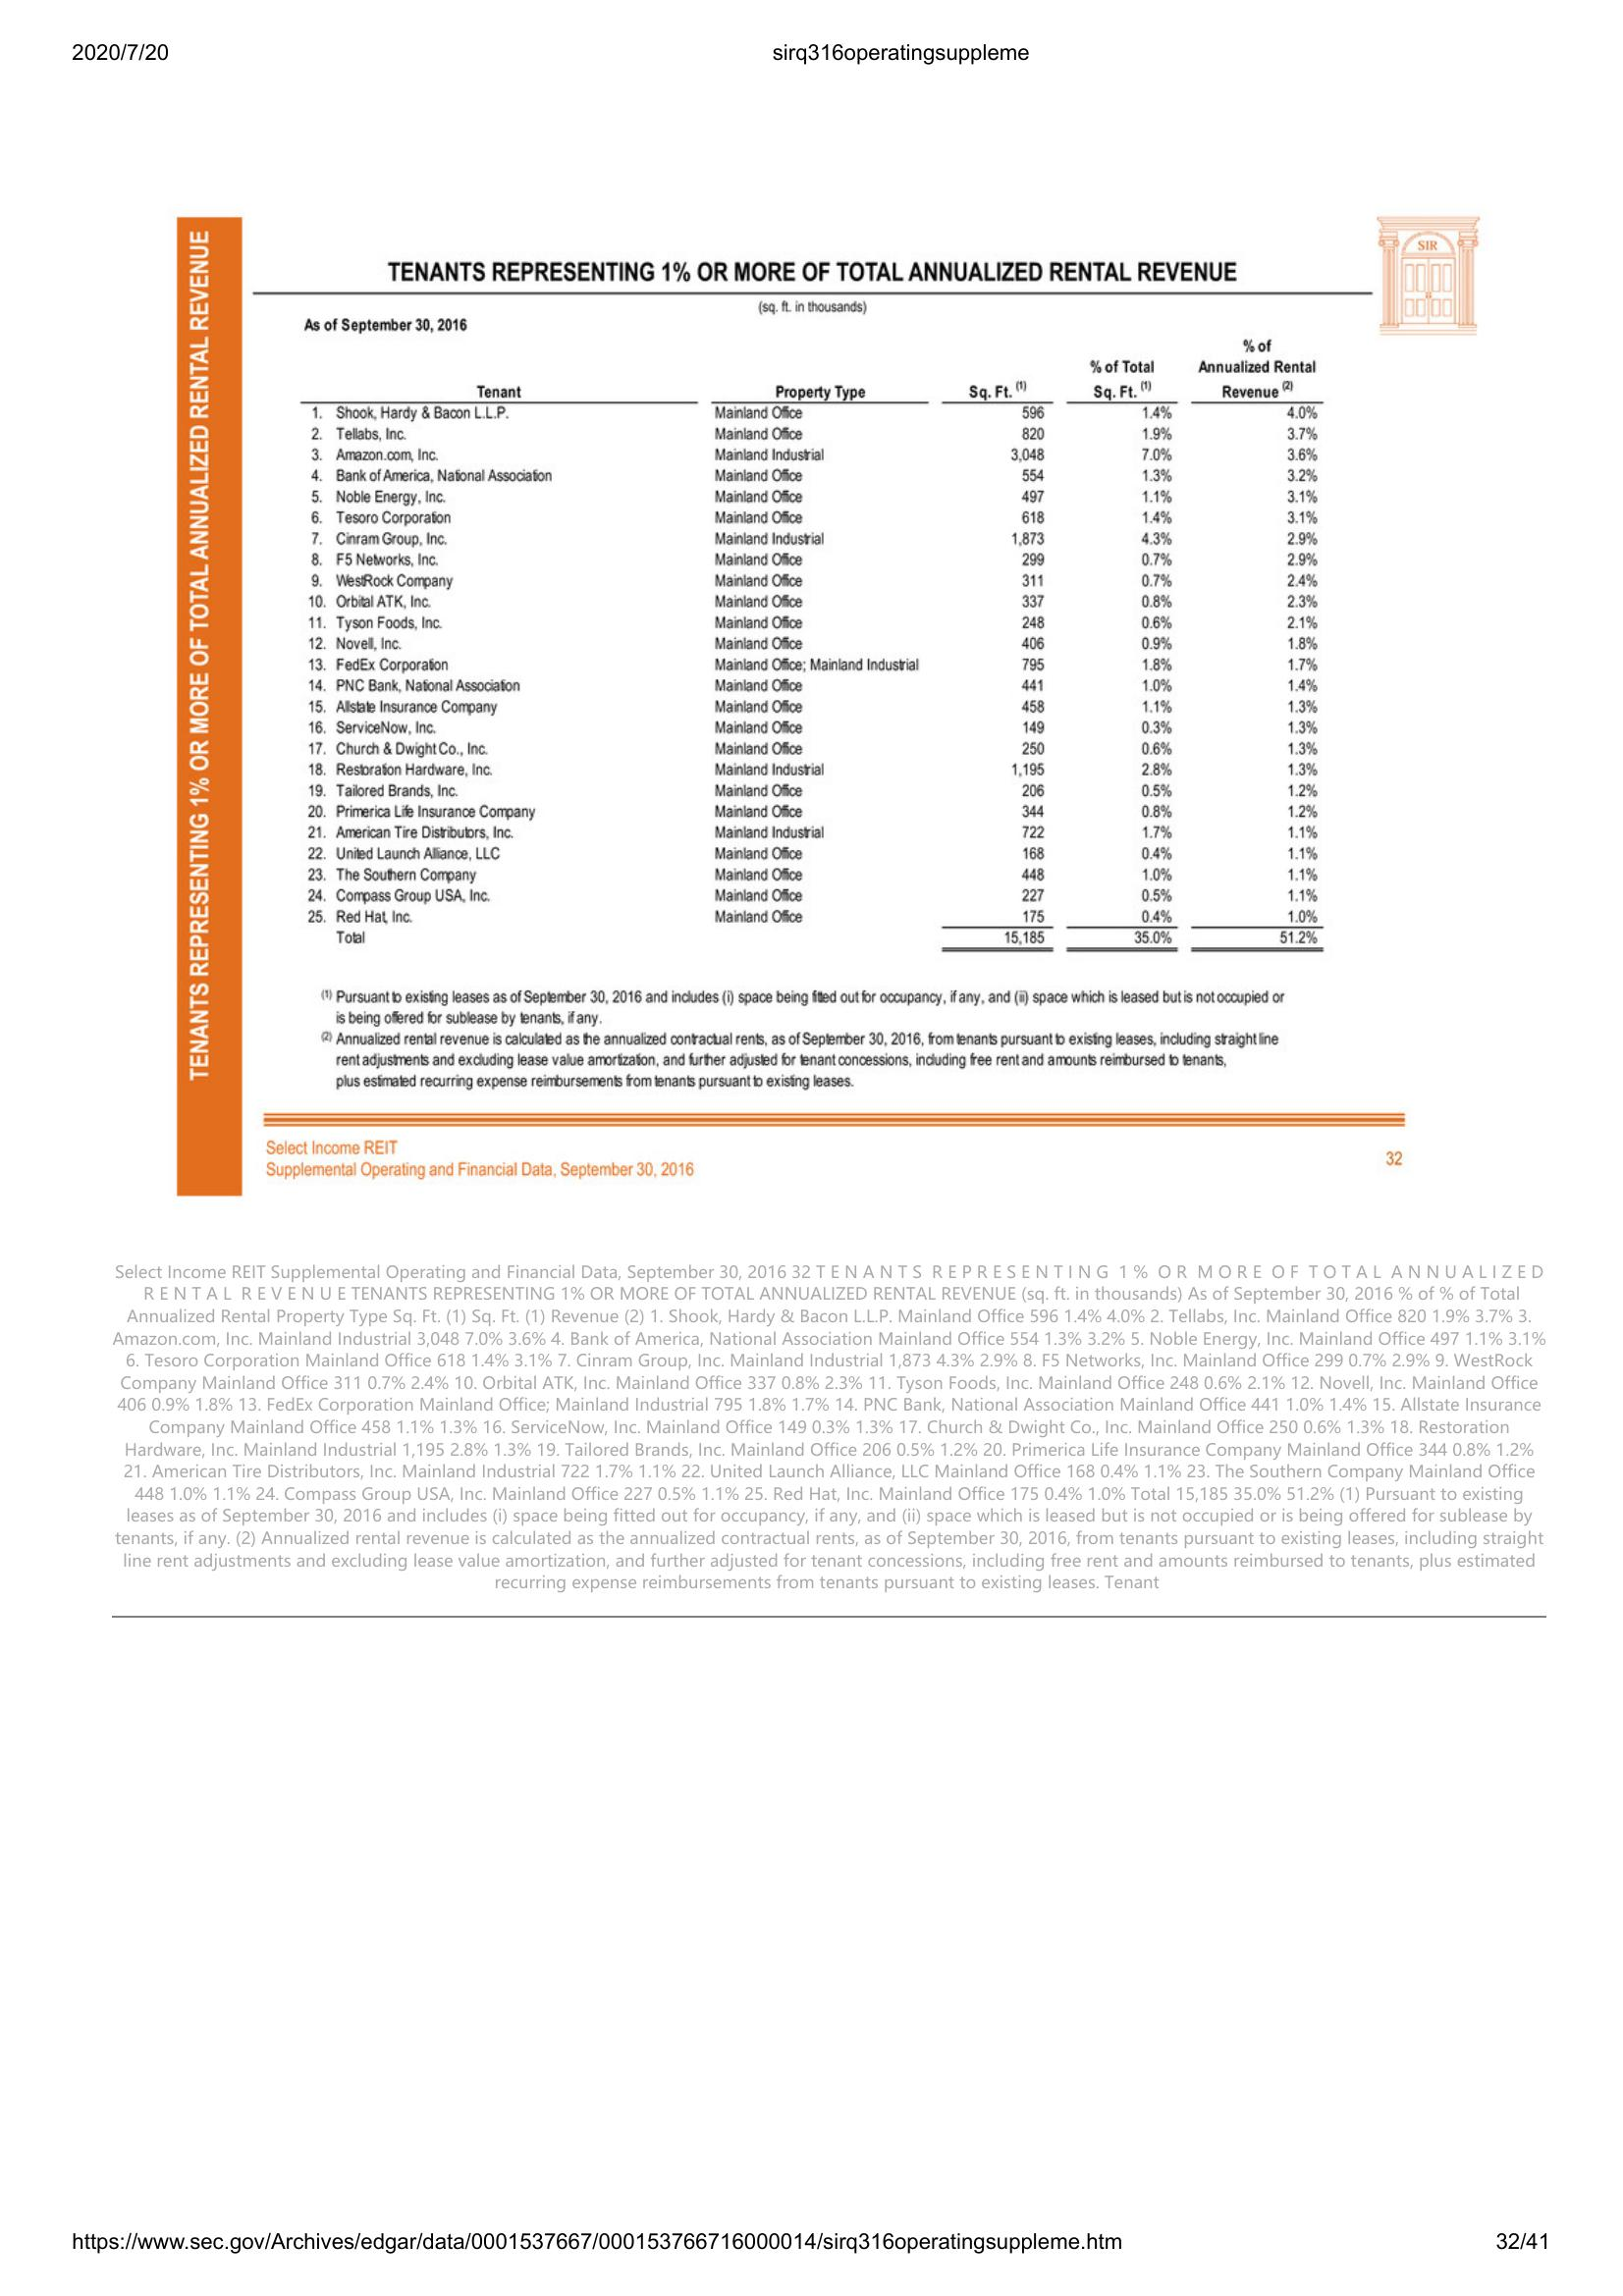table: (297, 335, 1333, 958)
